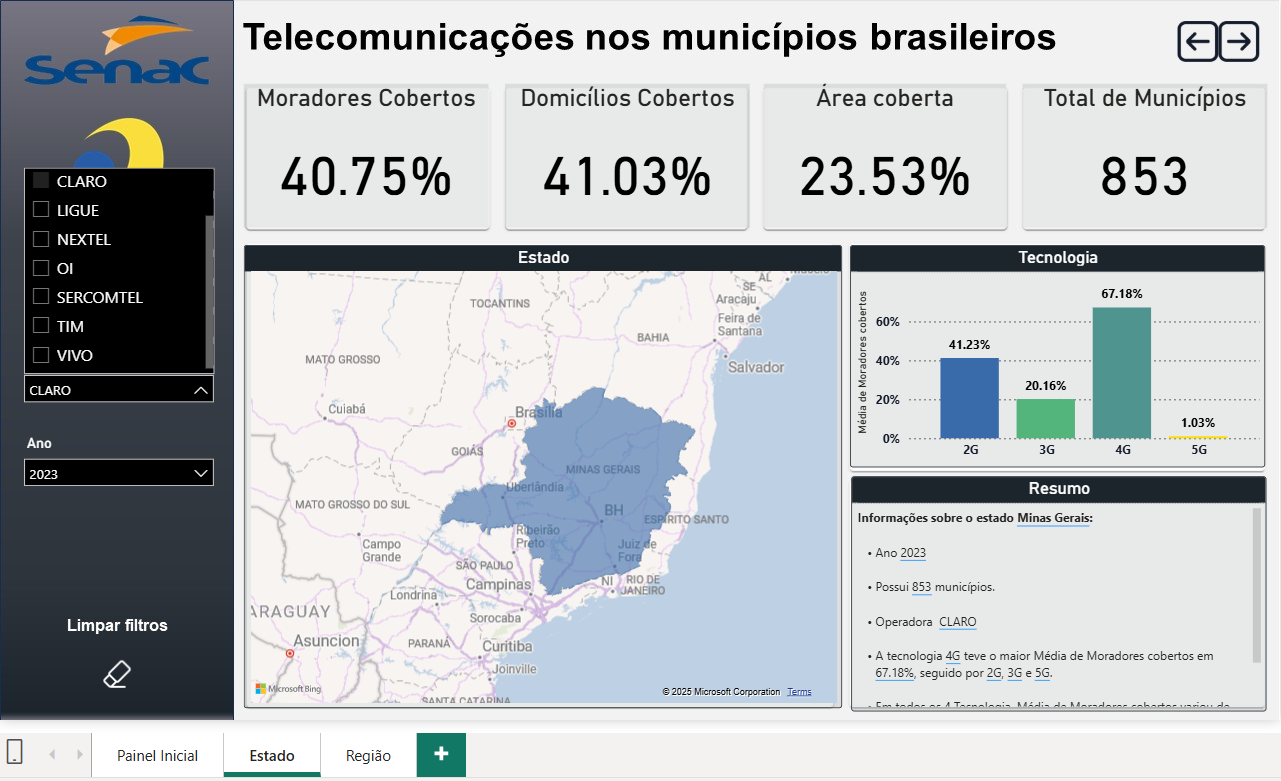

Layout of this report page (visuals, bound fields, positions):
{"tool":"powerbi","page":{"name":"Estado","canvas":[1280,720],"ordinal":1},"visuals":[{"type":"slicer","fields":{"Values":["Estado.Estado"]},"box":[13.8,256.2,210,90],"z":0},{"type":"slicer","fields":{"Values":["Operadora.Operadora"]},"box":[13.3,346.7,210,91.7],"z":1000},{"type":"card","title":"Moradores Cobertos","fields":{"Values":["Avg(Fato.% Moradores cobertos)"]},"box":[243.8,83.8,245,143.8],"z":2000},{"type":"filledMap","fields":{"Category":["Estado.Estado"]},"box":[243.3,245,598.3,463.3],"z":3000},{"type":"clusteredColumnChart","title":"Tecnologia","fields":{"Category":["Tecnologia.Tecnologia"],"Y":["Avg(Fato.Moradores cobertos)"]},"box":[850,245,415,222.5],"z":4000},{"type":"slicer","fields":{"Values":["Calendario.Date.Variation.Hierarquia de datas.Ano"]},"box":[13.8,430,210,92.5],"z":5000},{"type":"card","title":"Domicílios Cobertos","fields":{"Values":["Avg(Fato.Domicílios cobertos)"]},"box":[505,83.8,245,143.8],"z":6000},{"type":"image","box":[12.7,653.2,208.2,41.3],"z":7000},{"type":"image","box":[1211.1,15.9,55.6,50.9],"z":8000},{"type":"image","box":[1168.2,15.9,58.8,50.9],"z":9000},{"type":"card","title":"Área coberta","fields":{"Values":["Avg(Fato.% Área coberta)"]},"box":[763.8,83.8,242.5,143.8],"z":10000},{"type":"textbox","title":"Resumo","box":[851.7,476.7,415,235],"z":11000},{"type":"card","title":"Total de Municípios ","fields":{"Values":["Median(Fato.TotalMunicípiosEstado)"]},"box":[1022.5,83.8,245,143.8],"z":12000}]}

Visuals, with their boxes on the page's 1280x720 design canvas (x1, y1, x2, y2). These are canvas units, not pixel positions in the 1281x781 screenshot, which may show the page scaled, cropped or inside an application window:
slicer - Estado.Estado: 14, 256, 224, 346
slicer - Operadora.Operadora: 13, 347, 223, 438
"Moradores Cobertos" card: 244, 84, 489, 228
filledMap - Estado.Estado: 243, 245, 842, 708
"Tecnologia" clusteredColumnChart: 850, 245, 1265, 468
slicer - Calendario.Date.Variation.Hierarquia de datas.Ano: 14, 430, 224, 522
"Domicílios Cobertos" card: 505, 84, 750, 228
image: 13, 653, 221, 694
image: 1211, 16, 1267, 67
image: 1168, 16, 1227, 67
"Área coberta" card: 764, 84, 1006, 228
"Resumo" textbox: 852, 477, 1267, 712
"Total de Municípios " card: 1022, 84, 1268, 228
